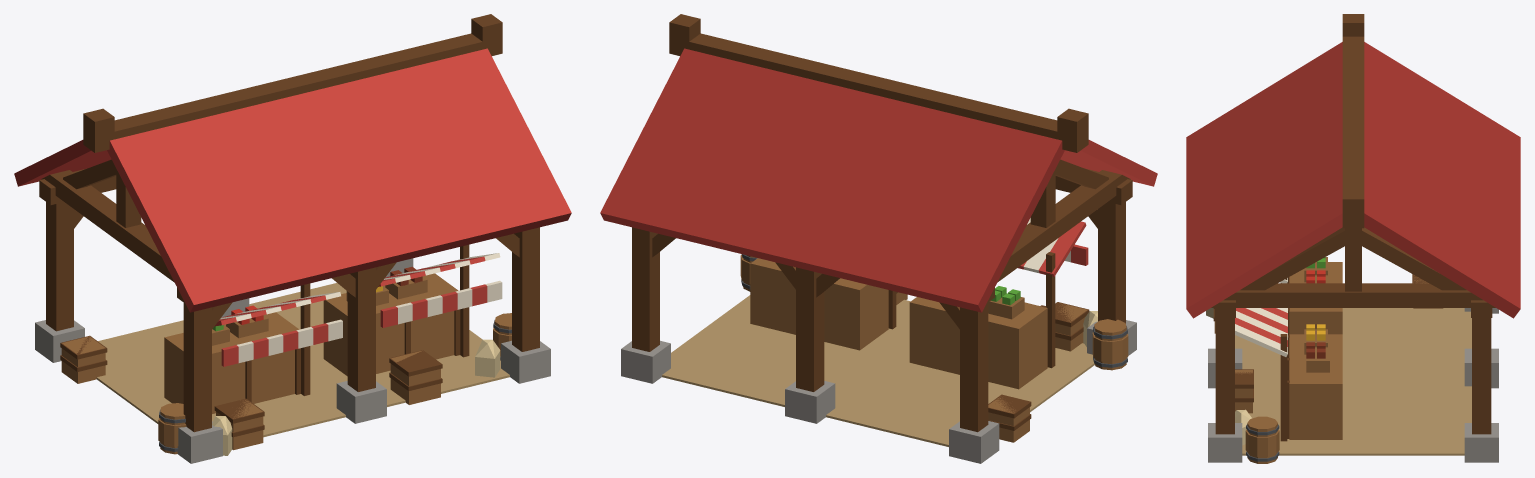
Rendered from market.glb.
3 views of the same model, side by side, from view 1: azimuth 30°, elevation 25°; view 2: azimuth 150°, elevation 25°; view 3: azimuth 270°, elevation 25° (orthographic). The views are drawn at different scales.
Visible parts, largest first — view 1: market_dach, market_balken, market_holz, market_erde, market_stein, market_rot, market_weiss, market_dach_dunkel, market_sack; view 2: market_dach_dunkel, market_balken, market_erde, market_holz, market_stein, market_dach, market_rot; view 3: market_dach, market_dach_dunkel, market_erde, market_balken, market_holz, market_stein, market_weiss, market_rot, market_sack.
Part boxes in pixels (box(x1,y1,x2,y2)): market_dach: box(107, 48, 571, 312); market_balken: box(39, 14, 539, 437); market_holz: box(61, 273, 511, 454); market_erde: box(96, 283, 509, 437); market_stein: box(35, 258, 550, 463); market_rot: box(215, 256, 487, 366); market_weiss: box(220, 253, 502, 362); market_dach_dunkel: box(14, 140, 111, 186); market_sack: box(212, 339, 500, 455); market_dach_dunkel: box(600, 48, 1064, 312); market_balken: box(632, 14, 1132, 432); market_erde: box(662, 295, 1094, 446); market_holz: box(740, 255, 1128, 442); market_stein: box(621, 320, 1136, 463); market_dach: box(1060, 140, 1157, 186); market_rot: box(1018, 221, 1088, 276); market_dach: box(1186, 42, 1342, 318); market_dach_dunkel: box(1364, 42, 1520, 318); market_erde: box(1235, 308, 1471, 455); market_balken: box(1211, 14, 1495, 441); market_holz: box(1214, 257, 1443, 463); market_stein: box(1208, 308, 1498, 462); market_weiss: box(1235, 278, 1287, 356); market_rot: box(1235, 308, 1287, 346); market_sack: box(1206, 308, 1251, 445).
Size of the model in its own units: 4.1 by 2.83 by 3.13.
